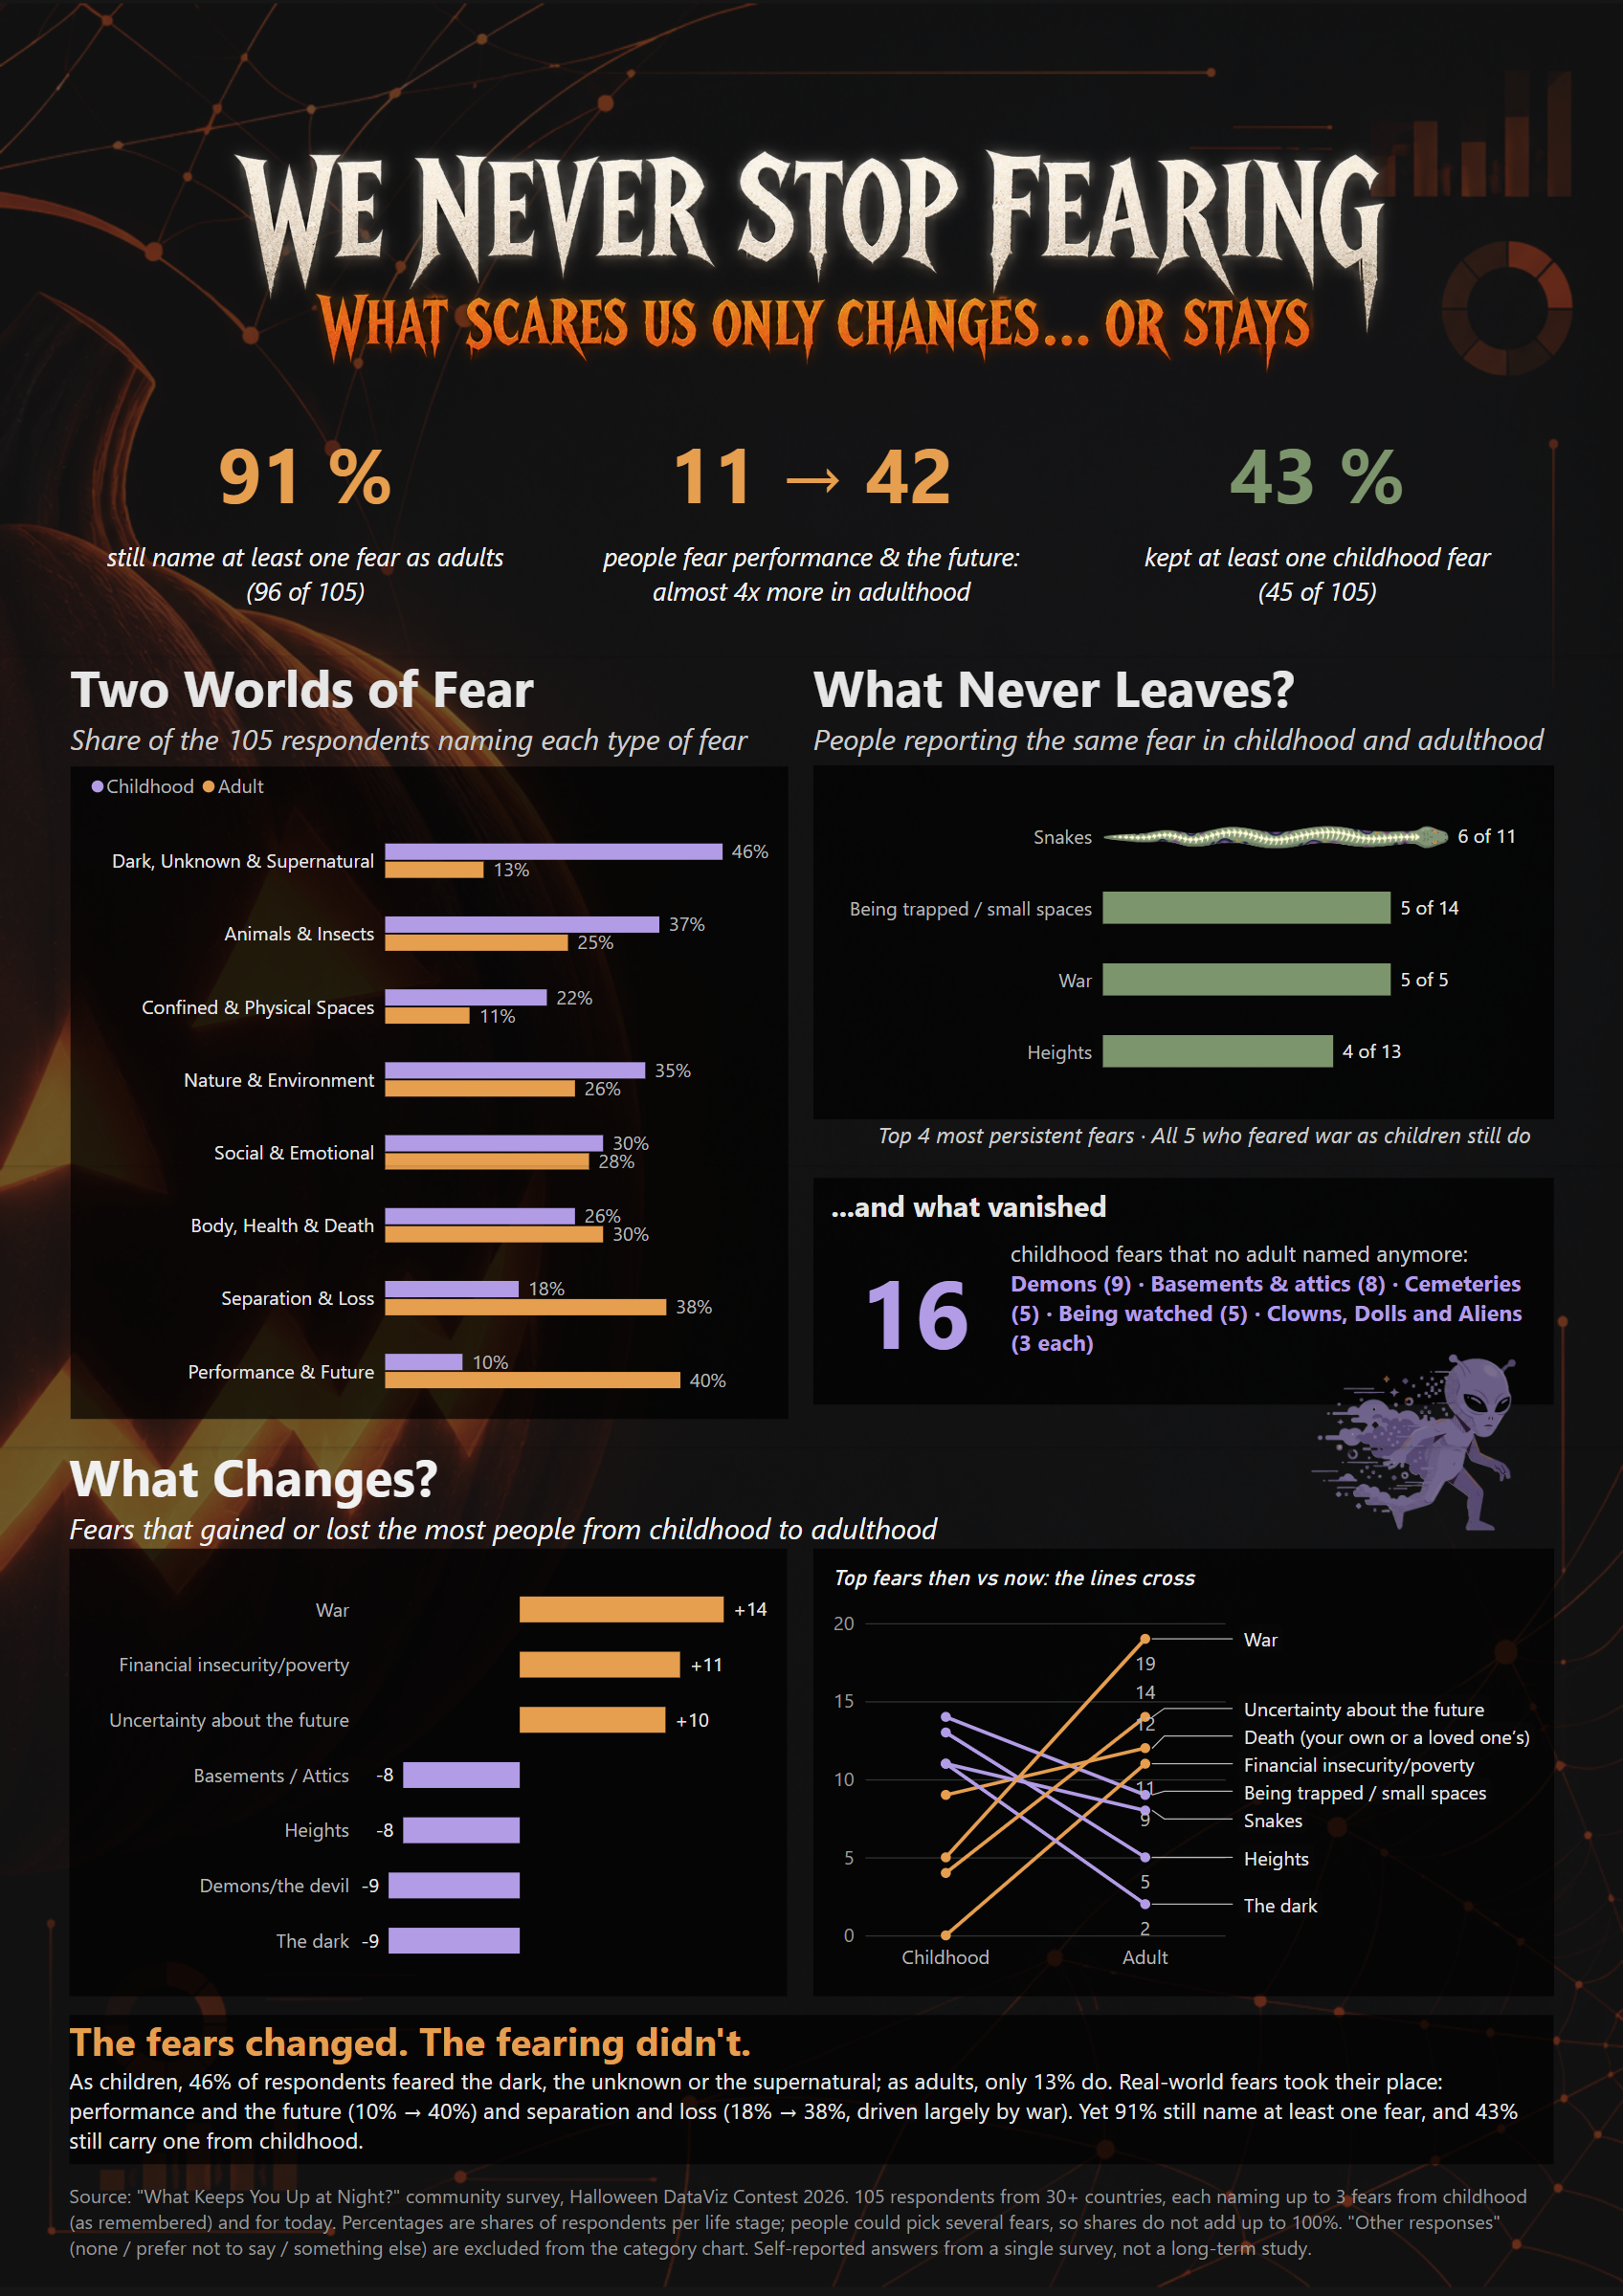

The page's visual inventory and layout, read from the dashboard file:
{"tool":"powerbi","page":{"name":"Report Page Portrait","canvas":[1357,1920],"ordinal":0},"visuals":[{"type":"shape","box":[680,985,619,190],"z":0},{"type":"image","box":[103.9,0,1150,408.6],"z":1000},{"type":"clusteredBarChart","fields":{"Category":["DimFear.Category"],"Series":["FactFearSelection.LifeStage"],"Y":["_Measures.Respondents Selecting Fear (%)"]},"box":[58.6,640.8,600,546],"z":2000},{"type":"textbox","box":[58.6,545.1,600,95],"z":3000},{"type":"clusteredBarChart","fields":{"Category":["DimFear.Fear"],"Y":["_Measures.Responses Where Fears Remained"]},"box":[680,640,619,295.7],"z":4000},{"type":"textbox","box":[680,545,619,95],"z":5000},{"type":"textbox","box":[680,936.2,600,32.5],"z":6000},{"type":"cardVisual","fields":{"Data":["_Measures.% Respondents Still Fearing"]},"box":[58,340,395,110],"z":7000},{"type":"textbox","box":[58,450,395,70],"z":8000},{"type":"cardVisual","fields":{"Data":["_Measures.KPI Performance Shift"]},"box":[481,340,395,110],"z":9000},{"type":"textbox","box":[481,450,395,70],"z":10000},{"type":"cardVisual","fields":{"Data":["_Measures.% Respondents With Retained Fear"]},"box":[904,340,395,110],"z":11000},{"type":"textbox","box":[904,450,395,70],"z":12000},{"type":"image","box":[921.2,640,292.8,120],"z":13000},{"type":"textbox","box":[58,1205,1241,89],"z":14000},{"type":"clusteredBarChart","fields":{"Category":["DimFear.Fear"],"Y":["_Measures.Respondents Change"]},"box":[58,1295,600,375],"z":15000},{"type":"lineChart","title":"Top fears then vs now: the lines cross","fields":{"Category":["FactFearSelection.LifeStage"],"Series":["DimFear.Fear"],"Y":["_Measures.Respondents (Zero if None)"]},"box":[680,1295,619,375],"z":16000},{"type":"textbox","box":[58,1685,1241,125],"z":17000},{"type":"textbox","box":[58,1825,1241,80],"z":18000},{"type":"cardVisual","fields":{"Data":["_Measures.Fears Left in Childhood"]},"box":[690,1035,150,120],"z":19000},{"type":"textbox","box":[845,1035,440,130],"z":20000},{"type":"textbox","box":[695,992,590,40],"z":21000},{"type":"image","box":[1085.2,1128.9,195.3,152.9],"z":22000}]}

Visuals, with their boxes in screenshot pixels (x1, y1, x2, y2), scaled from the page's 1357x1920 canvas onto the 1623x2296 screenshot:
shape: (813,1178,1554,1405)
image: (124,0,1500,489)
clusteredBarChart - DimFear.Category x FactFearSelection.LifeStage: (70,766,788,1420)
textbox: (70,651,788,765)
clusteredBarChart - DimFear.Fear x _Measures.Responses Where Fears Remained: (813,765,1554,1119)
textbox: (813,651,1554,765)
textbox: (813,1119,1531,1159)
cardVisual - _Measures.% Respondents Still Fearing: (69,407,542,538)
textbox: (69,538,542,622)
cardVisual - _Measures.KPI Performance Shift: (575,407,1048,538)
textbox: (575,538,1048,622)
cardVisual - _Measures.% Respondents With Retained Fear: (1081,407,1554,538)
textbox: (1081,538,1554,622)
image: (1101,765,1452,909)
textbox: (69,1441,1554,1548)
clusteredBarChart - DimFear.Fear x _Measures.Respondents Change: (69,1549,787,1998)
"Top fears then vs now: the lines cross" lineChart: (813,1549,1554,1998)
textbox: (69,2015,1554,2164)
textbox: (69,2182,1554,2278)
cardVisual - _Measures.Fears Left in Childhood: (825,1238,1005,1381)
textbox: (1011,1238,1537,1393)
textbox: (832,1186,1537,1234)
image: (1298,1350,1531,1533)
